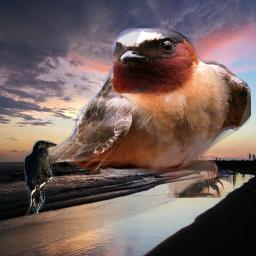Crow: (24, 140, 58, 216)
Swallow: (47, 28, 251, 198)
